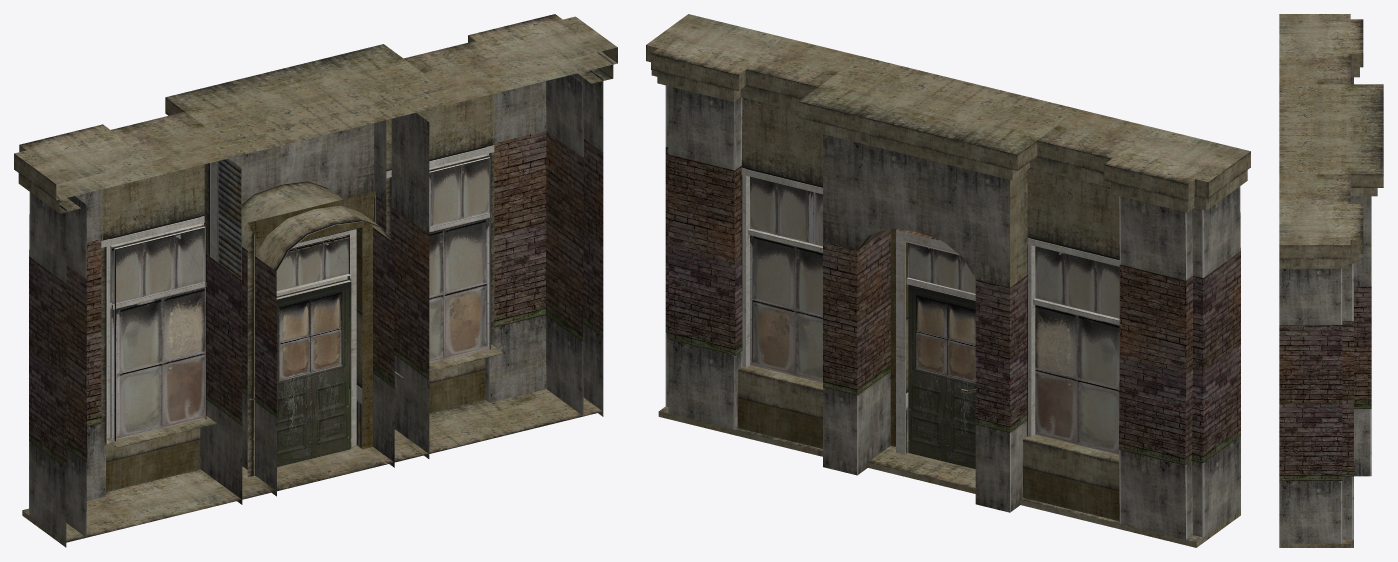
File: Store_front_38.fbx
3 renders of one model, left to right at view 1: azimuth 30°, elevation 25°; view 2: azimuth 150°, elevation 25°; view 3: azimuth 270°, elevation 25°, orthographic. The views are drawn at different scales.
Parts seen in each view (by area): view 1: Store_front_38; view 2: Store_front_38; view 3: Store_front_38.
Boxes of the visible parts, x1,y1,x2,y2 form: Store_front_38: (14,14,617,547); Store_front_38: (646,14,1250,547); Store_front_38: (1279,14,1383,547).
Bounding box in the file's own units: 732 × 456 × 140.
